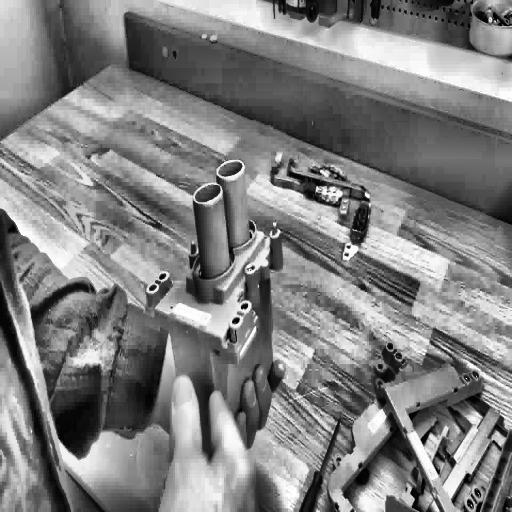busbar: (266, 146, 376, 269)
connector: (140, 155, 283, 452)
